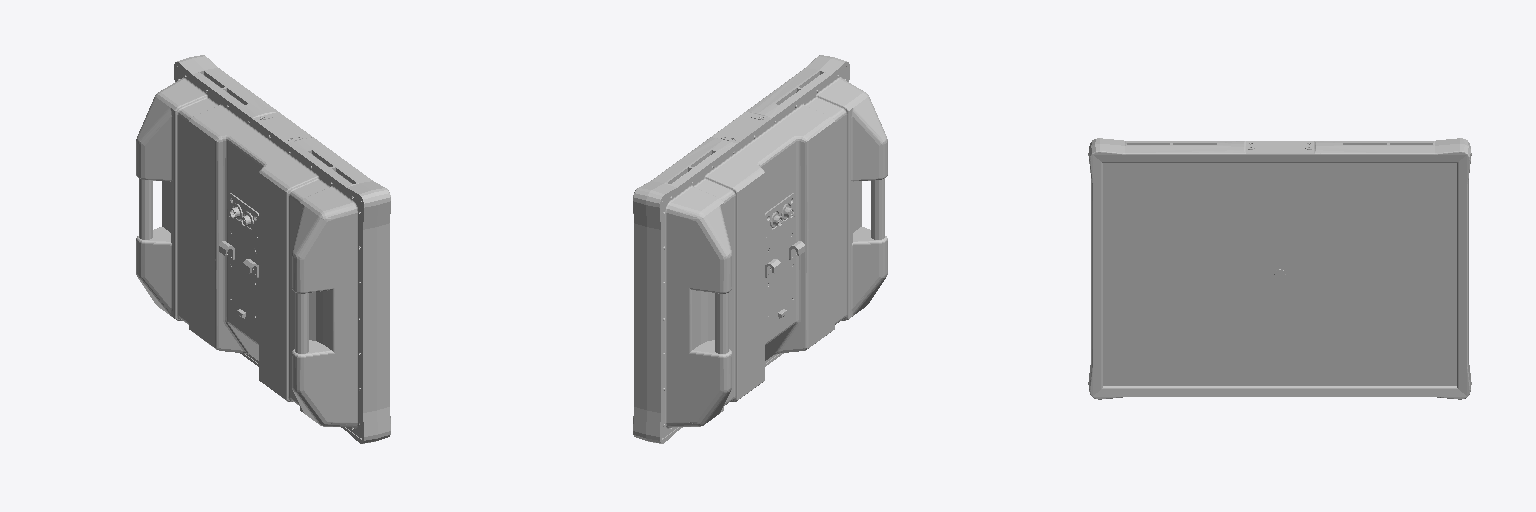
The model's file is MLU_simple.obj.
3 views of the same model, side by side, from view 1: azimuth 30°, elevation 25°; view 2: azimuth 150°, elevation 25°; view 3: azimuth 270°, elevation 25° (orthographic).
Parts seen in each view (by area): view 1: 1638_0_1000_0__sszeszerelt_radar_simply; view 2: 1638_0_1000_0__sszeszerelt_radar_simply; view 3: 1638_0_1000_0__sszeszerelt_radar_simply.
Part boxes in pixels (left/top/right/bottom): 1638_0_1000_0__sszeszerelt_radar_simply: left=136, top=55, right=390, bottom=443; 1638_0_1000_0__sszeszerelt_radar_simply: left=633, top=55, right=887, bottom=443; 1638_0_1000_0__sszeszerelt_radar_simply: left=1088, top=138, right=1471, bottom=399.
Size of the model in its own units: 168 by 497 by 689.